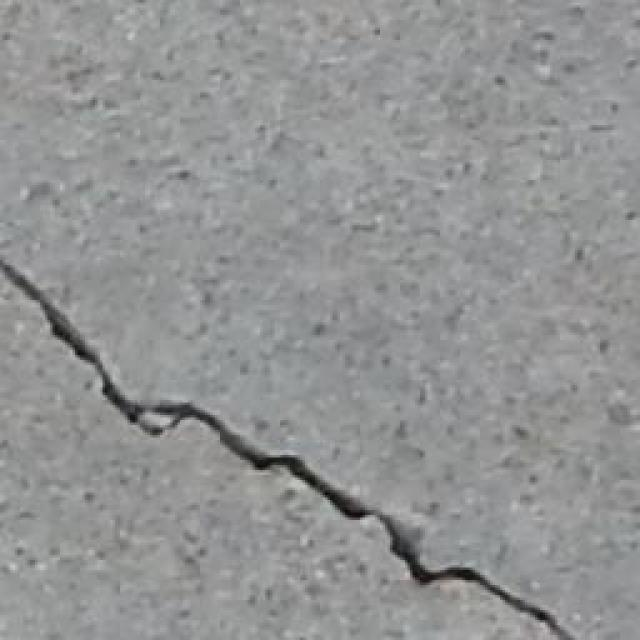concrete-crack: (0, 253, 584, 640)
